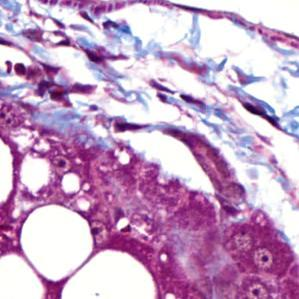steatosis: (15, 203, 97, 283)
